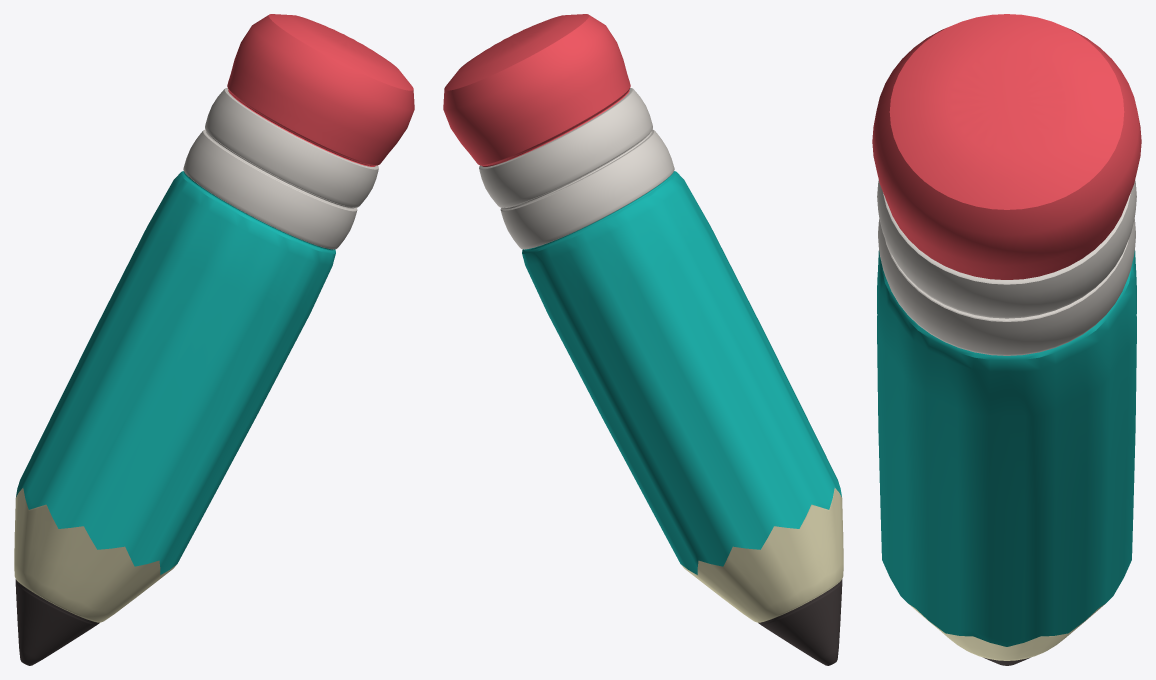
The model's file is study2.glb.
The picture shows the model from 3 angles, left to right: view 1: azimuth 30°, elevation 25°; view 2: azimuth 150°, elevation 25°; view 3: azimuth 270°, elevation 25°; orthographic projection. The views are drawn at different scales.
Parts seen in each view (by area): view 1: Cylinder.019; view 2: Cylinder.019; view 3: Cylinder.019.
Part boxes in pixels (box(x1,y1,x2,y2)): Cylinder.019: box(14, 14, 414, 665); Cylinder.019: box(443, 14, 843, 665); Cylinder.019: box(872, 14, 1141, 665).
Bounding box in the file's own units: 1.22 × 1.77 × 0.5219.
